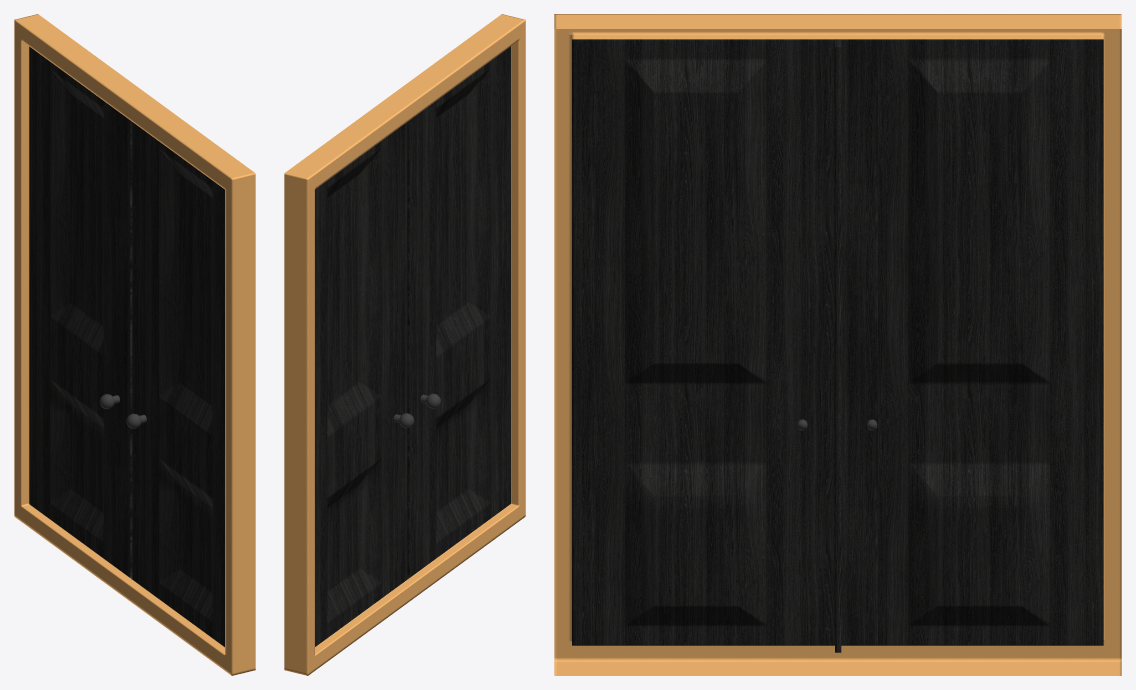
The model's file is Doors.glb.
3 renders of one model, left to right at view 1: azimuth 30°, elevation 25°; view 2: azimuth 150°, elevation 25°; view 3: azimuth 270°, elevation 25°, orthographic. The views are drawn at different scales.
Visible parts, largest first — view 1: Doors, Door knob; view 2: Doors, Door knob; view 3: Doors.
Boxes of the visible parts, x1,y1,x2,y2 form: Doors: (14,14,255,675); Door knob: (99,394,146,428); Doors: (284,14,525,675); Door knob: (393,393,440,428); Doors: (554,14,1121,675).
Bounding box in the file's own units: 0.2199 × 3.15 × 2.5.
Materials: 3 (1 with a texture image).
